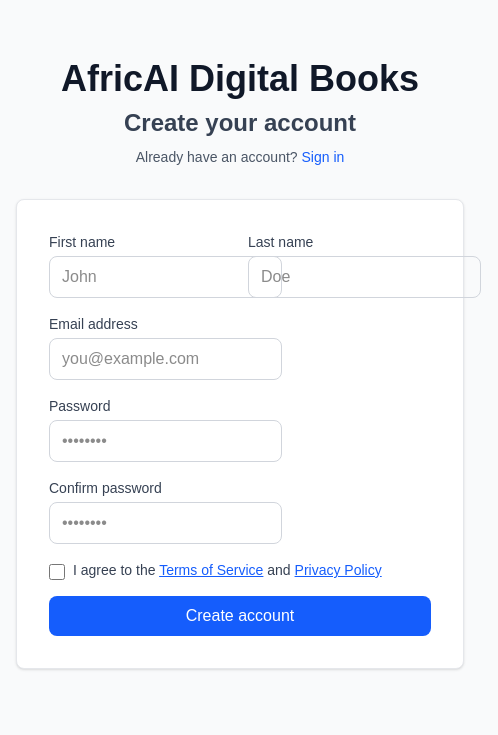
Test: RegisterPage › Form Validation › validates email format
The width and height of the screenshot is (498, 735).
Type "invalid-email" into the field labelled "Email address" at point(166, 359), box left=49, top=338, right=282, bottom=380
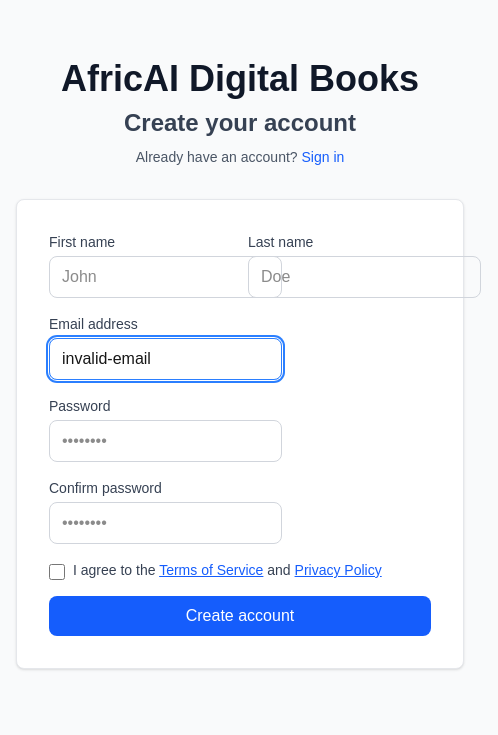
Click the button "Create account" at point(240, 616), box left=49, top=596, right=431, bottom=636
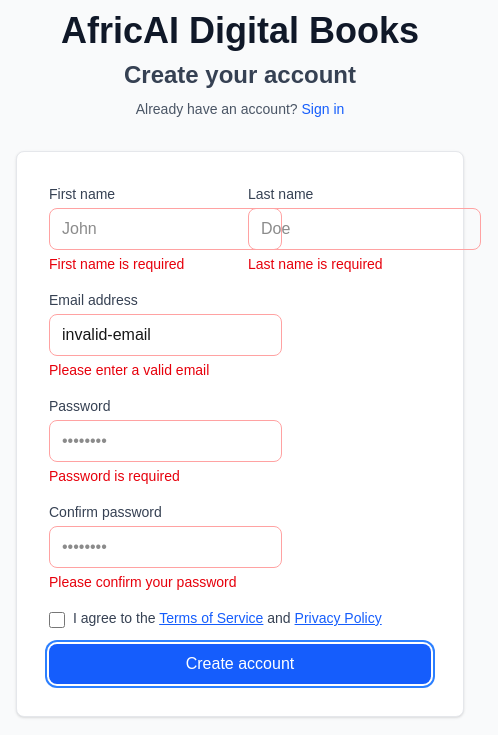
Expected: the text "Please enter a valid email" is shown, left=49, top=362, right=209, bottom=378
